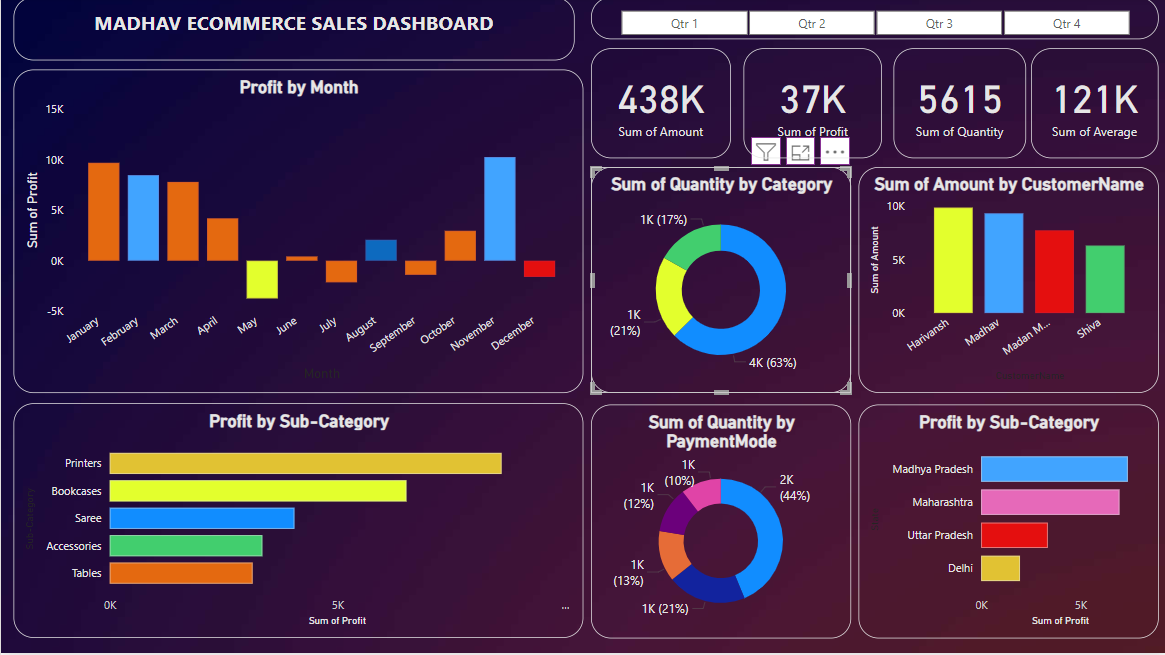

The dashboard page shown, as its layout file describes it:
{"tool":"powerbi","page":{"name":"Page 1","canvas":[1280,720],"ordinal":0},"visuals":[{"type":"textbox","box":[13.7,0,616.1,70],"z":0},{"type":"columnChart","title":"Profit by Month","fields":{"Y":["Details.Profit"],"Category":["Orders.Order Date.Variation.Date Hierarchy.Month"]},"box":[13.7,79.6,625.7,355.4],"z":1000},{"type":"barChart","title":" Profit by Sub-Category","fields":{"Category":["Details.Sub-Category"],"Y":["Details.Profit"]},"box":[13.7,446,625.7,258],"z":2000},{"type":"donutChart","fields":{"Category":["Details.Category"],"Y":["Details.Quantity"]},"box":[647.7,186.6,285.4,248.4],"z":3000},{"type":"donutChart","fields":{"Y":["Details.Quantity"],"Category":["Details.PaymentMode"]},"box":[647.7,447.3,285.4,256.6],"z":4000},{"type":"card","fields":{"Values":["Details.Amount"]},"box":[647.7,56.3,153.7,120.8],"z":5000},{"type":"card","fields":{"Values":["Details.Profit"]},"box":[815.1,56.3,152.3,120.8],"z":6000},{"type":"card","fields":{"Values":["Details.Quantity"]},"box":[979.8,56.3,145.5,120.8],"z":7000},{"type":"card","fields":{"Values":["Details.Average"]},"box":[1130.7,56.3,140,120.8],"z":8000},{"type":"barChart","title":" Profit by Sub-Category","fields":{"Category":["Orders.State"],"Y":["Details.Profit"]},"box":[941.3,447.3,329.3,256.6],"z":9000},{"type":"columnChart","fields":{"Category":["Orders.CustomerName"],"Y":["Details.Amount"]},"box":[941.3,186.6,329.3,248.4],"z":10000},{"type":"slicer","fields":{"Values":["Orders.Order Date.Variation.Date Hierarchy.Quarter"]},"box":[647.7,0,623,46.7],"z":11000}]}

Visuals, with their boxes in screenshot pixels (x1, y1, x2, y2), scaled from the page's 1280x720 canvas onto the 1165x655 screenshot:
textbox: 12, 0, 573, 64
"Profit by Month" columnChart: 12, 72, 582, 396
" Profit by Sub-Category" barChart: 12, 406, 582, 640
donutChart - Details.Category x Details.Quantity: 590, 170, 849, 396
donutChart - Details.Quantity x Details.PaymentMode: 590, 407, 849, 640
card - Details.Amount: 590, 51, 729, 161
card - Details.Profit: 742, 51, 880, 161
card - Details.Quantity: 892, 51, 1024, 161
card - Details.Average: 1029, 51, 1157, 161
" Profit by Sub-Category" barChart: 857, 407, 1156, 640
columnChart - Orders.CustomerName x Details.Amount: 857, 170, 1156, 396
slicer - Orders.Order Date.Variation.Date Hierarchy.Quarter: 590, 0, 1157, 42
